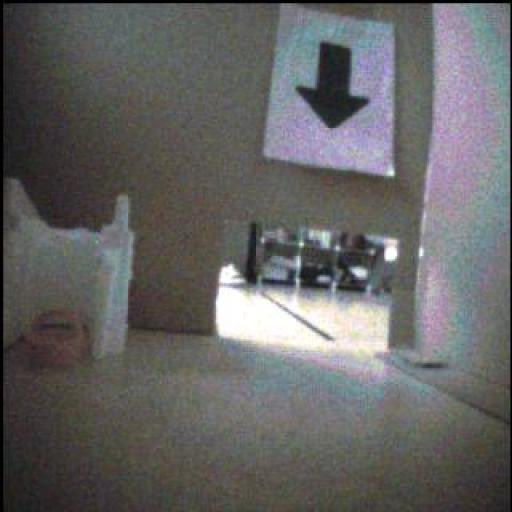arrow: (297, 43, 371, 129)
